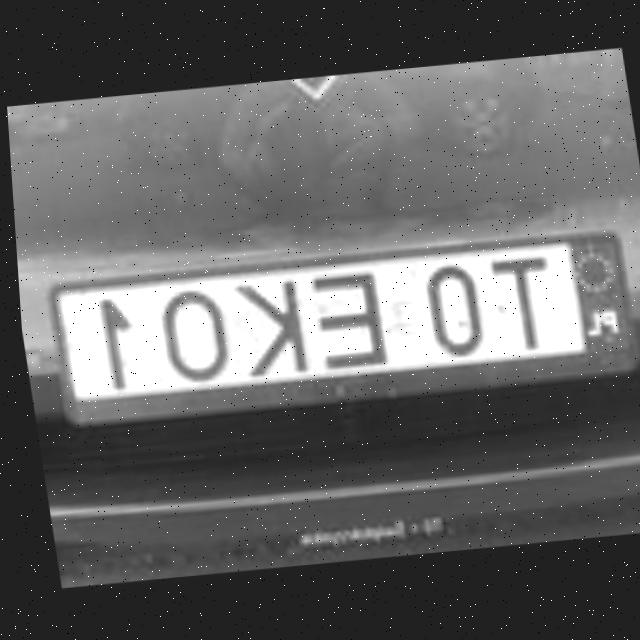license-plates: (51, 236, 629, 404)
